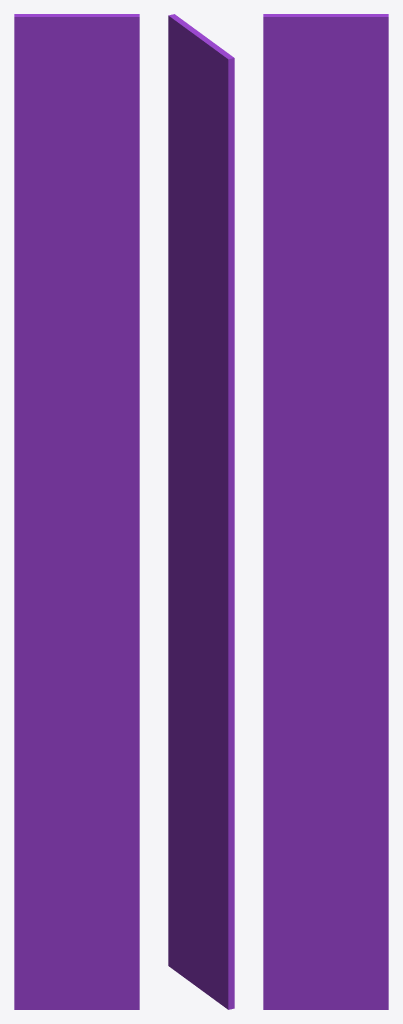
Rendered from Glass_52_chunks.fbx.
3 views of the same model, side by side, from view 1: azimuth 90°, elevation 25°; view 2: azimuth 210°, elevation 25°; view 3: azimuth 270°, elevation 25° (orthographic). The views are drawn at different scales.
Parts seen in each view (by area): view 1: Glass_52_4, Glass_52_7, Glass_52_3, Glass_52_9, Glass_52_1, Glass_52_0, Glass_52_2, Glass_52_8, Glass_52_6; view 2: Glass_52_4, Glass_52_7, Glass_52_3, Glass_52_9, Glass_52_0, Glass_52_2, Glass_52_1, Glass_52_8; view 3: Glass_52_4, Glass_52_7, Glass_52_9, Glass_52_3, Glass_52_1, Glass_52_8, Glass_52_0, Glass_52_2.
Boxes of the visible parts, left/top/right/bottom form: Glass_52_4: left=14, top=14, right=139, bottom=308; Glass_52_7: left=14, top=720, right=139, bottom=1009; Glass_52_3: left=14, top=302, right=120, bottom=510; Glass_52_9: left=34, top=518, right=139, bottom=726; Glass_52_1: left=75, top=228, right=139, bottom=538; Glass_52_0: left=14, top=508, right=80, bottom=801; Glass_52_2: left=14, top=158, right=76, bottom=375; Glass_52_8: left=84, top=667, right=139, bottom=880; Glass_52_6: left=72, top=702, right=103, bottom=740; Glass_52_4: left=168, top=14, right=234, bottom=306; Glass_52_7: left=168, top=718, right=234, bottom=1009; Glass_52_3: left=174, top=298, right=234, bottom=535; Glass_52_9: left=168, top=508, right=223, bottom=727; Glass_52_0: left=201, top=518, right=234, bottom=809; Glass_52_2: left=200, top=192, right=234, bottom=401; Glass_52_1: left=168, top=240, right=196, bottom=509; Glass_52_8: left=168, top=636, right=198, bottom=848; Glass_52_4: left=263, top=14, right=388, bottom=307; Glass_52_7: left=263, top=719, right=388, bottom=1009; Glass_52_9: left=263, top=511, right=379, bottom=727; Glass_52_3: left=276, top=302, right=388, bottom=516; Glass_52_1: left=263, top=252, right=322, bottom=532; Glass_52_8: left=263, top=665, right=326, bottom=887; Glass_52_0: left=332, top=514, right=388, bottom=756; Glass_52_2: left=330, top=156, right=388, bottom=374.
Bounding box in the file's own units: 27.2 × 4041 × 462.
